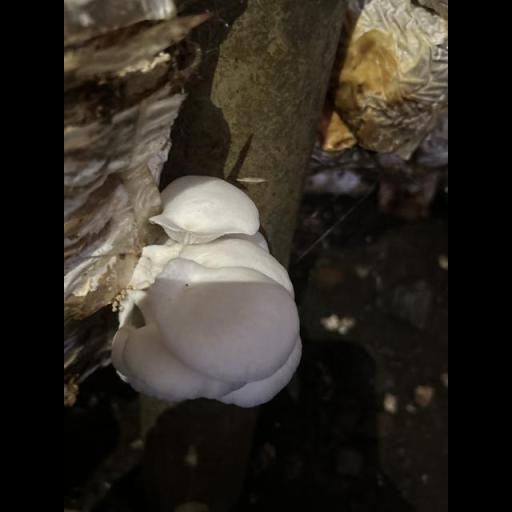White Oyster Mushroom: (110, 176, 303, 407)
